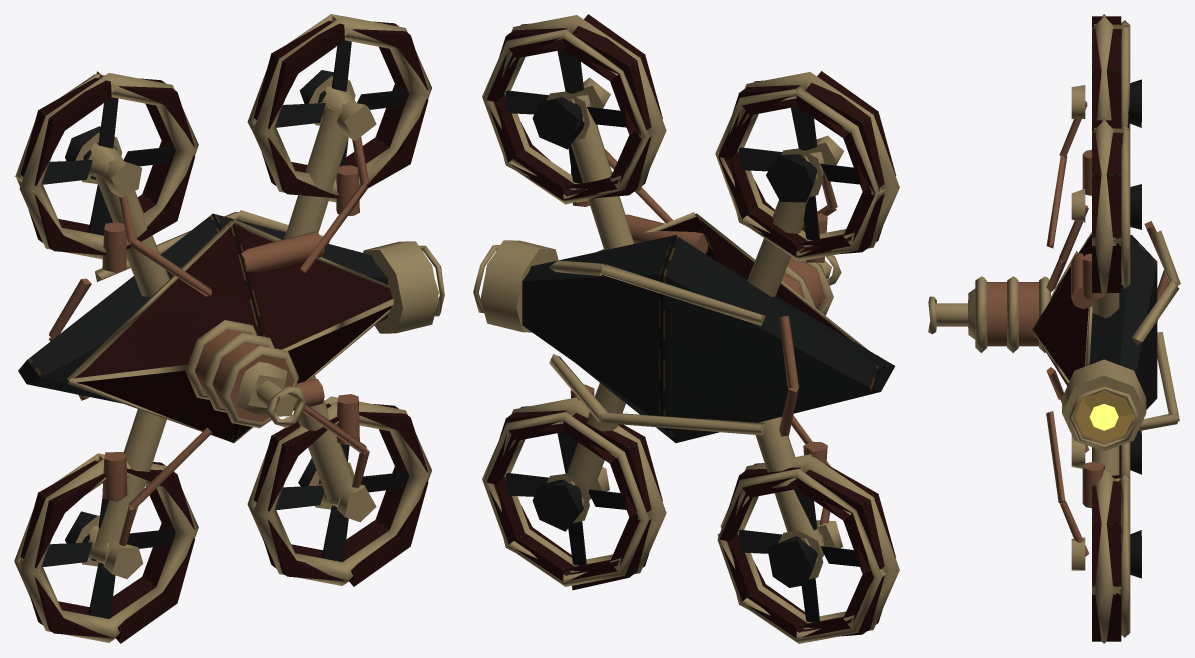
The model's file is drone-low.glb.
The picture shows the model from 3 angles, left to right: view 1: azimuth 30°, elevation 25°; view 2: azimuth 150°, elevation 25°; view 3: azimuth 270°, elevation 25°; orthographic projection. The views are drawn at different scales.
Visible parts, largest first — view 1: drone-root.001 / Burgundy enamel.001, drone-root.001 / Machined brass.001, drone-root.001 / Copper feed lines.001, drone-root.001 / Riveted iron.001, Survey rotor.005 / Riveted iron.001, Survey rotor.004 / Riveted iron.001, Survey rotor.006 / Riveted iron.001, Survey rotor.007 / Riveted iron.001, Survey rotor.005 / Machined brass.001; view 2: drone-root.001 / Machined brass.001, drone-root.001 / Riveted iron.001, drone-root.001 / Burgundy enamel.001, drone-root.001 / Copper feed lines.001, Survey rotor.005 / Riveted iron.001, Survey rotor.006 / Riveted iron.001, Survey rotor.007 / Riveted iron.001, Survey rotor.004 / Riveted iron.001; view 3: drone-root.001 / Machined brass.001, drone-root.001 / Burgundy enamel.001, drone-root.001 / Copper feed lines.001, drone-root.001 / Riveted iron.001, drone-root.001 / Ore gold / optics.001, drone-root.001 / Amber lamps.001.
Part boxes in pixels (x1,y1,x2,y2): drone-root.001 / Burgundy enamel.001: (20, 21, 428, 643); drone-root.001 / Machined brass.001: (14, 14, 444, 642); drone-root.001 / Copper feed lines.001: (49, 137, 369, 545); drone-root.001 / Riveted iron.001: (18, 70, 387, 561); Survey rotor.005 / Riveted iron.001: (42, 97, 175, 235); Survey rotor.004 / Riveted iron.001: (42, 498, 175, 618); Survey rotor.006 / Riveted iron.001: (275, 444, 408, 562); Survey rotor.007 / Riveted iron.001: (275, 40, 408, 178); Survey rotor.005 / Machined brass.001: (88, 143, 124, 178); drone-root.001 / Machined brass.001: (473, 15, 899, 643); drone-root.001 / Riveted iron.001: (522, 97, 895, 587); drone-root.001 / Burgundy enamel.001: (486, 14, 896, 638); drone-root.001 / Copper feed lines.001: (570, 103, 837, 541); Survey rotor.005 / Riveted iron.001: (738, 98, 859, 240); Survey rotor.006 / Riveted iron.001: (505, 423, 626, 565); Survey rotor.007 / Riveted iron.001: (505, 41, 626, 183); Survey rotor.004 / Riveted iron.001: (738, 480, 859, 622); drone-root.001 / Machined brass.001: (928, 14, 1180, 643); drone-root.001 / Burgundy enamel.001: (1032, 16, 1128, 641); drone-root.001 / Copper feed lines.001: (987, 101, 1169, 556); drone-root.001 / Riveted iron.001: (1089, 79, 1157, 578); drone-root.001 / Ore gold / optics.001: (1074, 385, 1134, 442); drone-root.001 / Amber lamps.001: (1089, 404, 1118, 430).
Size of the model in its own units: 1.15 by 1.52 by 0.6697.
6 materials, 2 textured.
